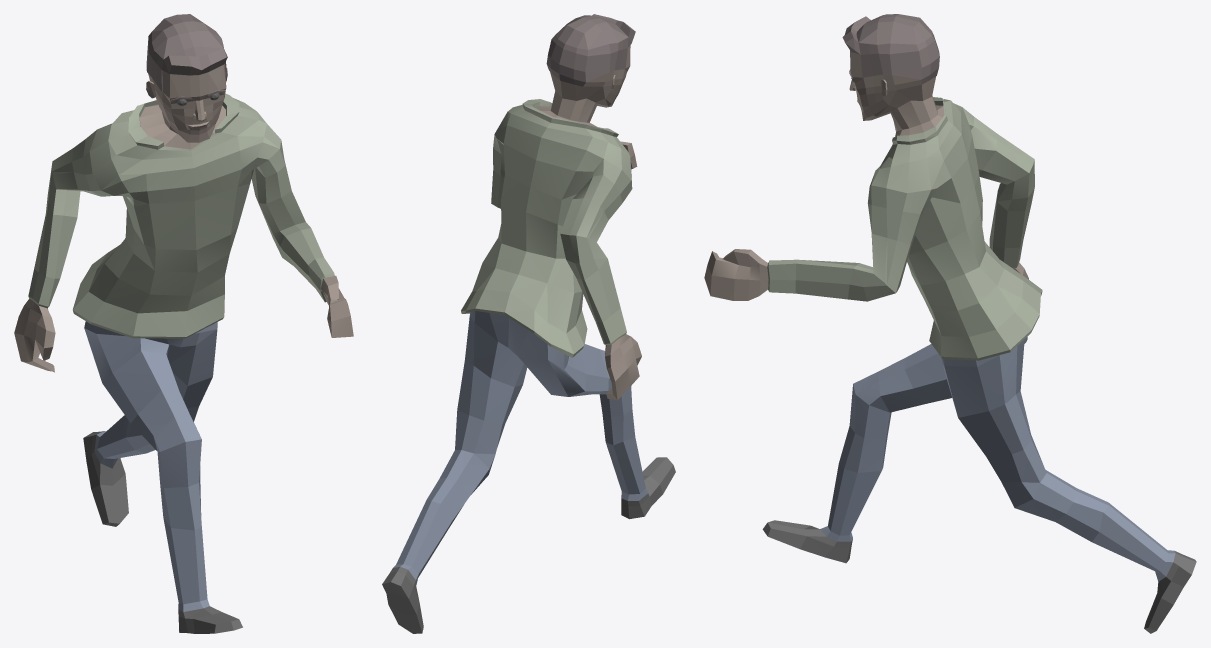
Rendered from run_11.glb.
The picture shows the model from 3 angles, left to right: view 1: azimuth 30°, elevation 25°; view 2: azimuth 150°, elevation 25°; view 3: azimuth 270°, elevation 25°; orthographic projection. The views are drawn at different scales.
Parts seen in each view (by area): view 1: BaseHuman_baked; view 2: BaseHuman_baked; view 3: BaseHuman_baked.
Part boxes in pixels (<box>): BaseHuman_baked: <box>14,14,353,633</box>; BaseHuman_baked: <box>382,14,675,633</box>; BaseHuman_baked: <box>704,14,1196,633</box>.
Size of the model in its own units: 1.65 by 4.47 by 3.4.
